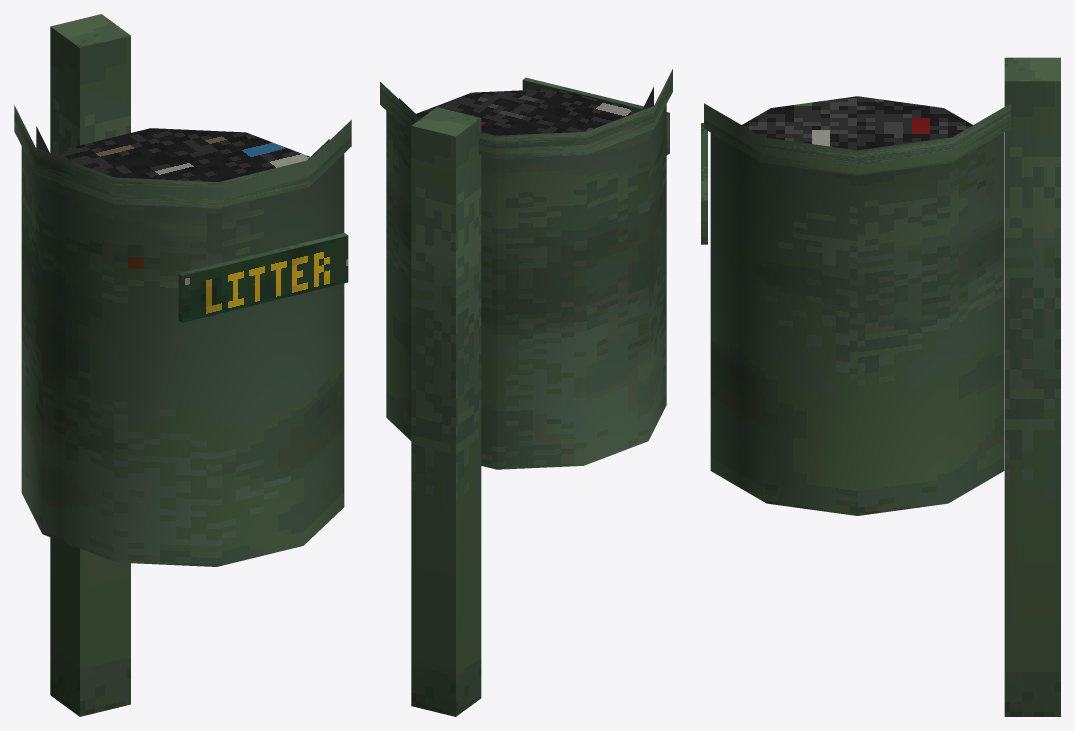
The model's file is litter_bin.glb.
3 renders of one model, left to right at view 1: azimuth 30°, elevation 25°; view 2: azimuth 150°, elevation 25°; view 3: azimuth 270°, elevation 25°, orthographic. The views are drawn at different scales.
Visible parts, largest first — view 1: litter_bin; view 2: litter_bin; view 3: litter_bin.
Part boxes in pixels (x1=…): litter_bin: x1=14, y1=14, x2=351, y2=716; litter_bin: x1=380, y1=69, x2=672, y2=716; litter_bin: x1=701, y1=57, x2=1060, y2=716.
Bounding box in the file's own units: 0.46 × 1 × 0.513.
Materials: 1 (1 with a texture image).
